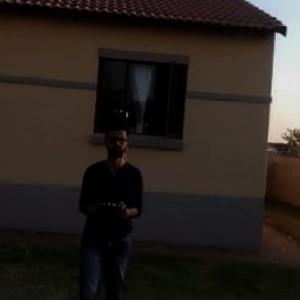follow: (72, 114, 148, 299)
